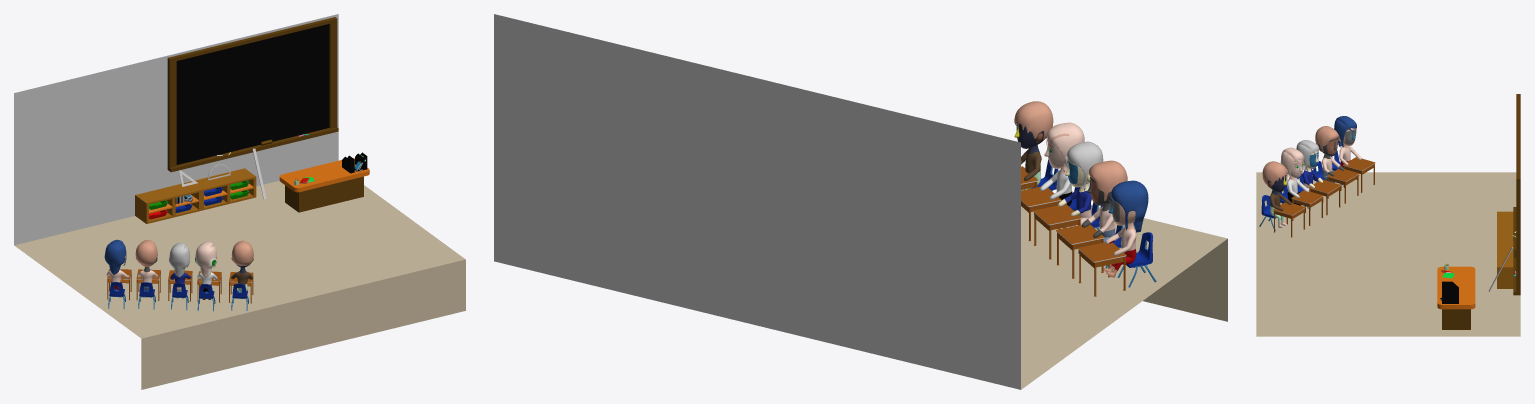
File: Class Room - Grade 4 - 6.fbx
3 views of the same model, side by side, from view 1: azimuth 30°, elevation 25°; view 2: azimuth 150°, elevation 25°; view 3: azimuth 270°, elevation 25° (orthographic). The views are drawn at different scales.
Parts seen in each view (by area): view 1: Grade 1 ClassRoom.016; view 2: Grade 1 ClassRoom.016; view 3: Grade 1 ClassRoom.016.
Boxes of the visible parts, x1=… form: Grade 1 ClassRoom.016: x1=14, y1=14, x2=465, y2=389; Grade 1 ClassRoom.016: x1=494, y1=14, x2=1227, y2=389; Grade 1 ClassRoom.016: x1=1256, y1=94, x2=1520, y2=336.
Size of the model in its own units: 762 by 457 by 518.
